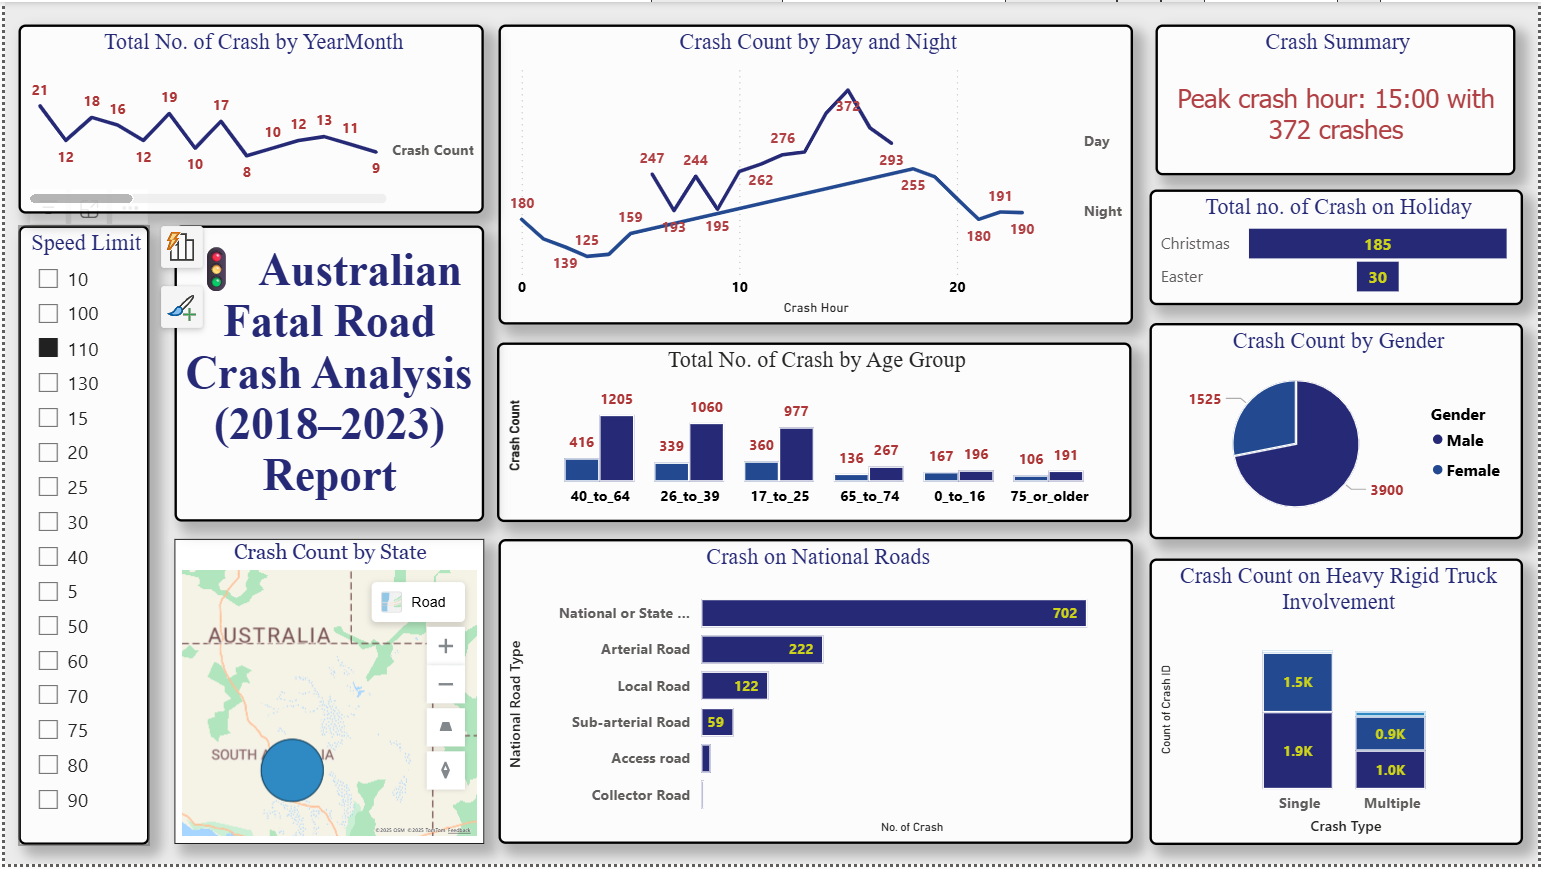

What the dashboard file says about the page in this screenshot:
{"tool":"powerbi","page":{"name":"Dashboard_CrashCount","canvas":[1280,720],"ordinal":12},"visuals":[{"type":"azureMap","fields":{"Category":["ardd_fatalities.State"],"Size":["ardd_fatalities.Crash Count"]},"box":[141.3,449.1,258.8,254.6],"z":0},{"type":"card","title":"Crash Summary","fields":{"Values":["ardd_fatalities.Peak Crash Summary"]},"box":[961.1,18.2,300.8,96.5],"z":1000},{"type":"lineChart","title":"Crash Count by Day and Night","fields":{"Series":["ardd_fatalities.Time of day"],"Category":["ardd_fatalities.Crash Hour"],"Y":["ardd_fatalities.Crash Count"]},"box":[412.7,18.2,530.2,250.4],"z":2000},{"type":"clusteredBarChart","title":"Crash on National Roads","fields":{"Category":["ardd_fatalities.National Road Type"],"Y":["CountNonNull(ardd_fatalities.Crash ID)"]},"box":[412.7,449.1,530.2,254.6],"z":3000},{"type":"clusteredColumnChart","title":"Total No. of Crash by Age Group","fields":{"Category":["ardd_fatalities.Age Group"],"Series":["ardd_fatalities.Gender"],"Y":["ardd_fatalities.Crash Count"]},"box":[411.3,284,530.2,149.7],"z":4000},{"type":"columnChart","title":"Crash Count on Heavy Rigid Truck Involvement","fields":{"Category":["ardd_fatalities.Crash Type"],"Y":["CountNonNull(ardd_fatalities.Crash ID)"],"Series":["ardd_fatalities.Heavy Rigid Truck Involvement"]},"box":[955.5,464.5,312,239.2],"z":5000},{"type":"funnel","title":"Total no. of Crash on Holiday","fields":{"Y":["ardd_fatalities.Crash Count"],"Category":["ardd_fatalities.Holiday Period"]},"box":[955.5,156.7,312,96.5],"z":6000},{"type":"pieChart","fields":{"Category":["ardd_fatalities.Gender"],"Y":["ardd_fatalities.Crash Count"]},"box":[955.5,268.6,312,180.5],"z":7000},{"type":"slicer","title":"Speed Limit","fields":{"Values":["ardd_fatalities.Speed Limit"]},"box":[11.2,200.1,109.1,498],"z":8000},{"type":"lineChart","title":"Total No. of Crash by YearMonth","fields":{"Category":["calendar (2).YearMonth"],"Y":["ardd_fatalities.Crash Count"]},"box":[11.2,18.2,388.9,158.1],"z":9000},{"type":"textbox","box":[141.3,186.1,258.8,247.6],"z":10000}]}

Visuals, with their boxes in screenshot pixels (x1, y1, x2, y2), scaled from the page's 1280x720 canvas onto the 1541x869 screenshot:
azureMap - ardd_fatalities.State x ardd_fatalities.Crash Count: 170, 542, 482, 849
"Crash Summary" card: 1157, 22, 1519, 138
"Crash Count by Day and Night" lineChart: 497, 22, 1135, 324
"Crash on National Roads" clusteredBarChart: 497, 542, 1135, 849
"Total No. of Crash by Age Group" clusteredColumnChart: 495, 343, 1133, 523
"Crash Count on Heavy Rigid Truck Involvement" columnChart: 1150, 561, 1526, 849
"Total no. of Crash on Holiday" funnel: 1150, 189, 1526, 306
pieChart - ardd_fatalities.Gender x ardd_fatalities.Crash Count: 1150, 324, 1526, 542
"Speed Limit" slicer: 13, 242, 145, 843
"Total No. of Crash by YearMonth" lineChart: 13, 22, 482, 213
textbox: 170, 225, 482, 523
